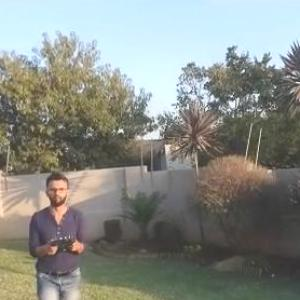follow: (29, 168, 95, 299)
